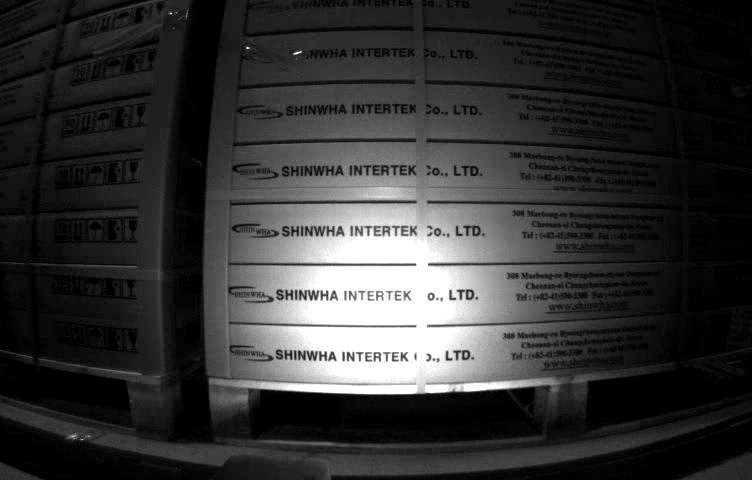True Barcode: (730, 308, 751, 350)
